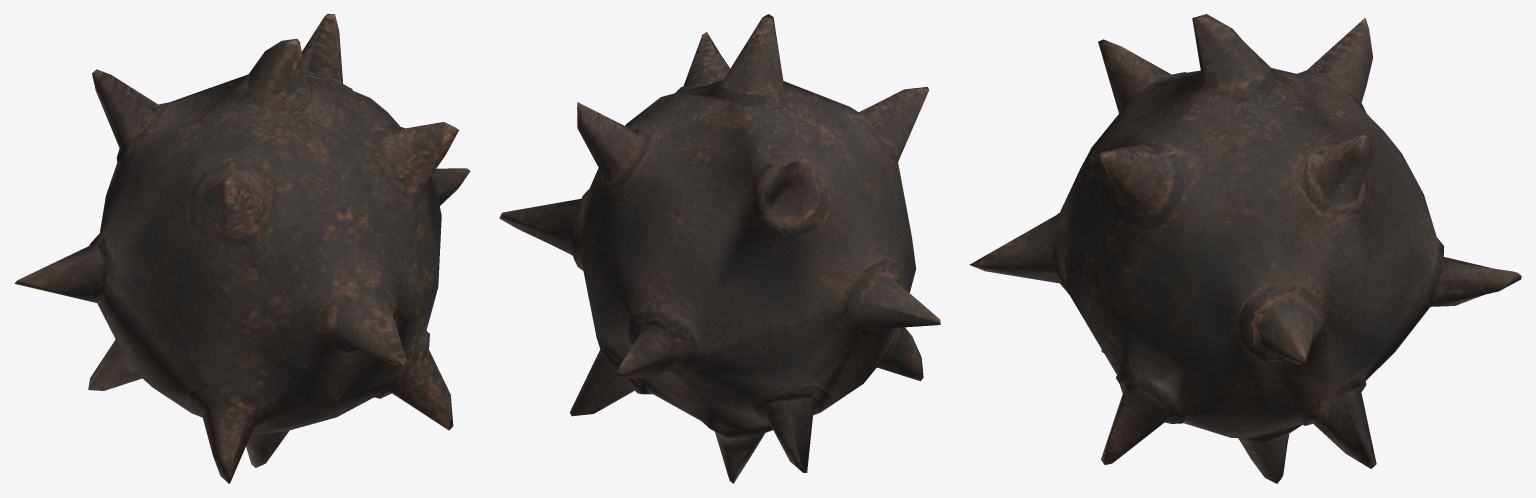
Rendered from Common.glb.
3 views of the same model, side by side, from view 1: azimuth 30°, elevation 25°; view 2: azimuth 150°, elevation 25°; view 3: azimuth 270°, elevation 25° (orthographic). The views are drawn at different scales.
Visible parts, largest first — view 1: Mesh_0; view 2: Mesh_0; view 3: Mesh_0.
Boxes of the visible parts, x1=… form: Mesh_0: x1=14, y1=14, x2=470, y2=483; Mesh_0: x1=499, y1=14, x2=940, y2=483; Mesh_0: x1=969, y1=14, x2=1521, y2=483.
Bounding box in the file's own units: 1.87 × 1.79 × 1.91.
Materials: 1 (1 with a texture image).
